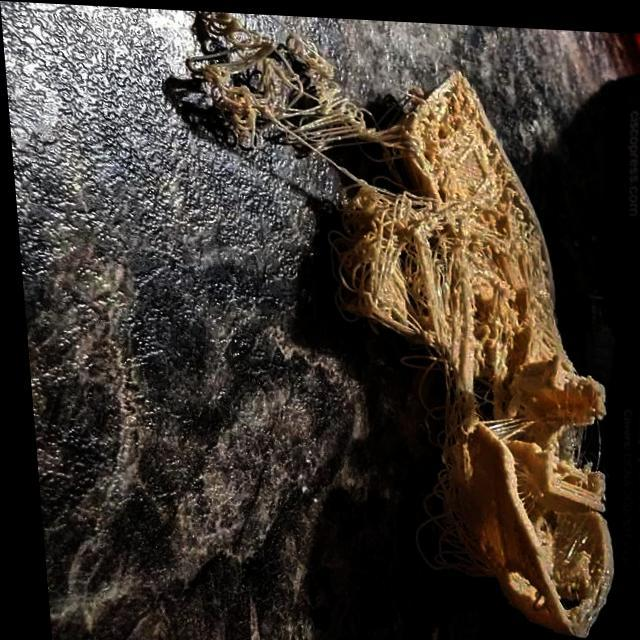spaghetti: (333, 189, 440, 327), (186, 16, 282, 142), (281, 58, 365, 151), (420, 440, 466, 570), (431, 388, 463, 445), (393, 340, 437, 380)
stringing: (486, 407, 522, 440), (550, 417, 578, 456), (584, 410, 602, 469)
